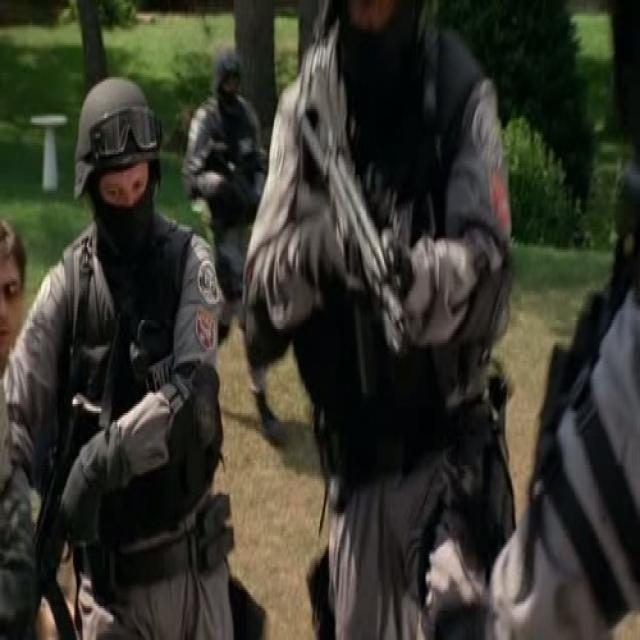rifle: (294, 104, 409, 352)
